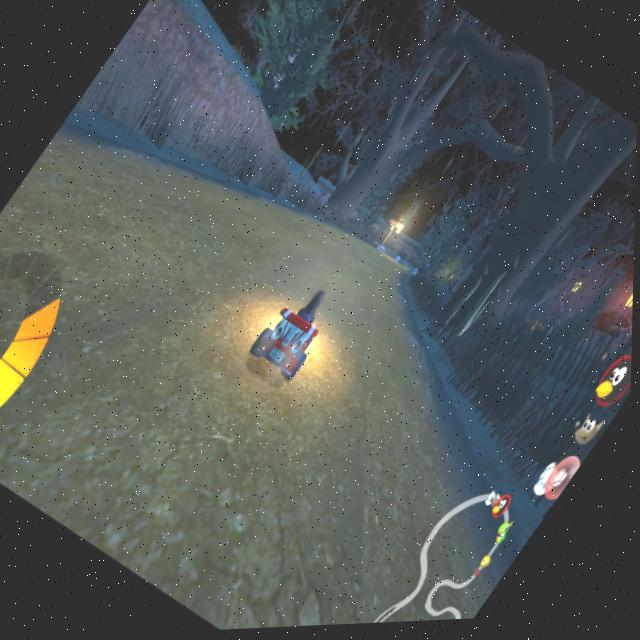off_track: (108, 31, 309, 211), (410, 271, 576, 417)
player_kart: (233, 276, 346, 405)
track: (266, 194, 417, 329)
